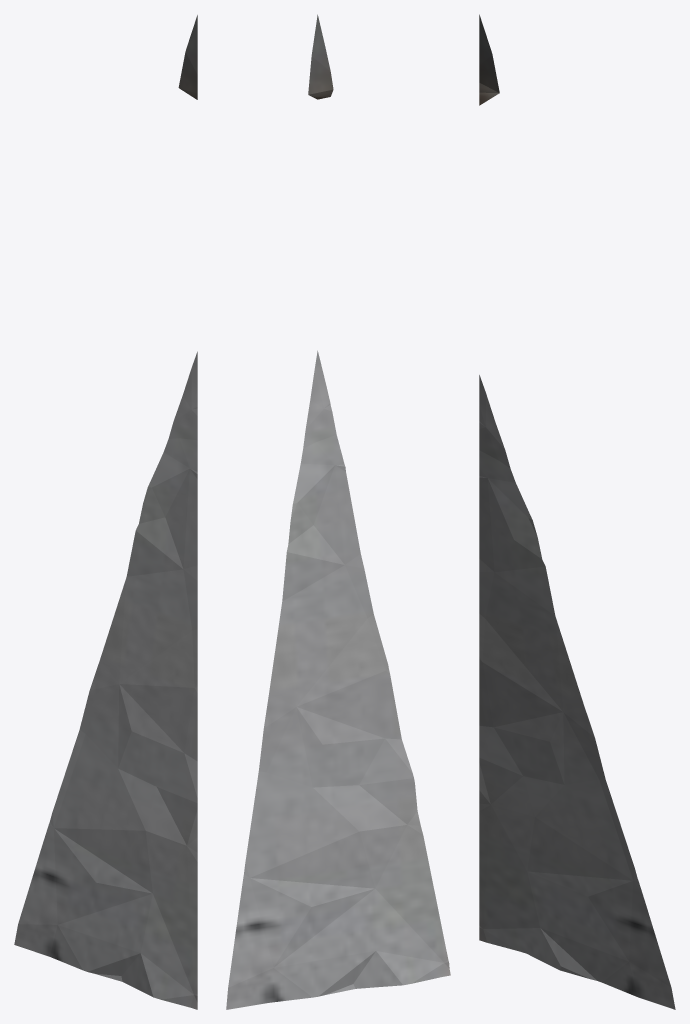
The picture shows the model from 3 angles, left to right: view 1: azimuth 90°, elevation 25°; view 2: azimuth 150°, elevation 25°; view 3: azimuth 270°, elevation 25°; orthographic projection. The views are drawn at different scales.
Bounding box in the file's own units: 0.1207 × 0.8048 × 0.1437.
Materials: 1 (1 with a texture image).
